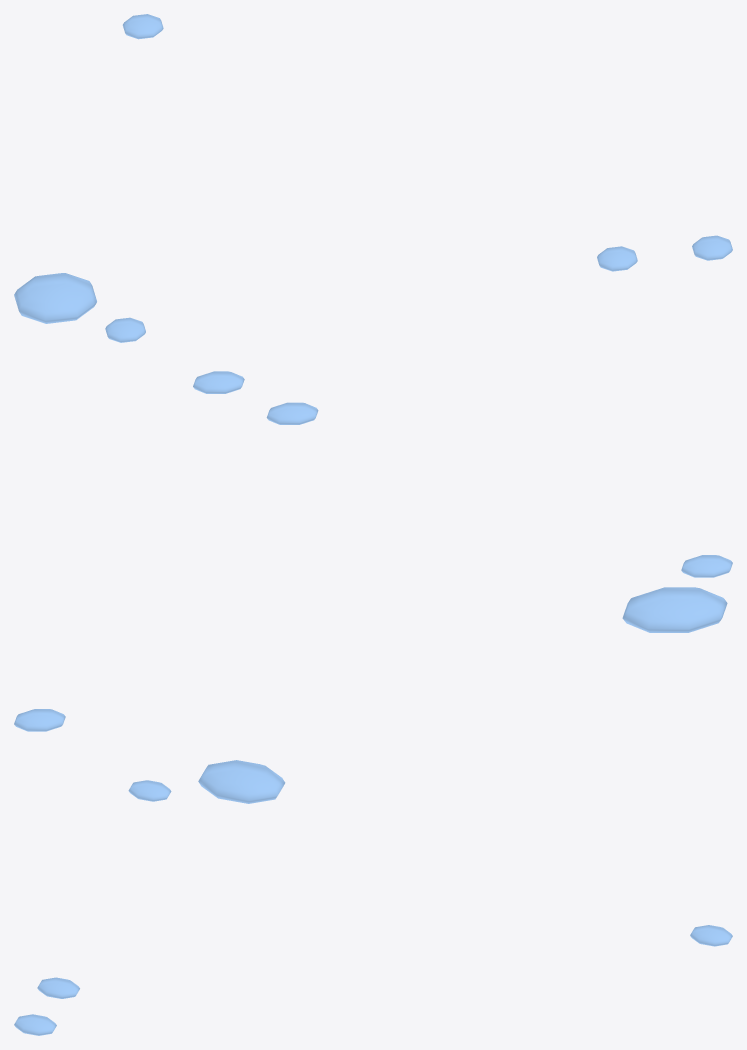
Rendered from stones_grp_3.fbx.
3 views of the same model, one above another, from view 1: azimuth 30°, elevation 25°; view 2: azimuth 150°, elevation 25°; view 3: azimuth 270°, elevation 25° (orthographic). The views are drawn at different scales.
Visible parts, largest first — view 1: stone_base9, stone_base10, stone_base13, stone_base12, stone_base11; view 2: stone_base9, stone_base11, stone_base12, stone_base10, stone_base13; view 3: stone_base9, stone_base10, stone_base12, stone_base13, stone_base11.
Boxes of the visible parts, x1,y1,x2,y2 form: stone_base9: (14, 273, 96, 323); stone_base10: (105, 317, 145, 342); stone_base13: (597, 246, 637, 271); stone_base12: (692, 235, 732, 260); stone_base11: (122, 14, 163, 39); stone_base9: (622, 587, 727, 632); stone_base11: (14, 709, 65, 731); stone_base12: (193, 371, 244, 393); stone_base10: (681, 555, 732, 577); stone_base13: (266, 402, 318, 424); stone_base9: (198, 760, 285, 803); stone_base10: (128, 780, 171, 801); stone_base12: (14, 1014, 56, 1035); stone_base13: (37, 977, 79, 998); stone_base11: (690, 925, 732, 946).
Bounding box in the file's own units: 100 × 3.13 × 113.
